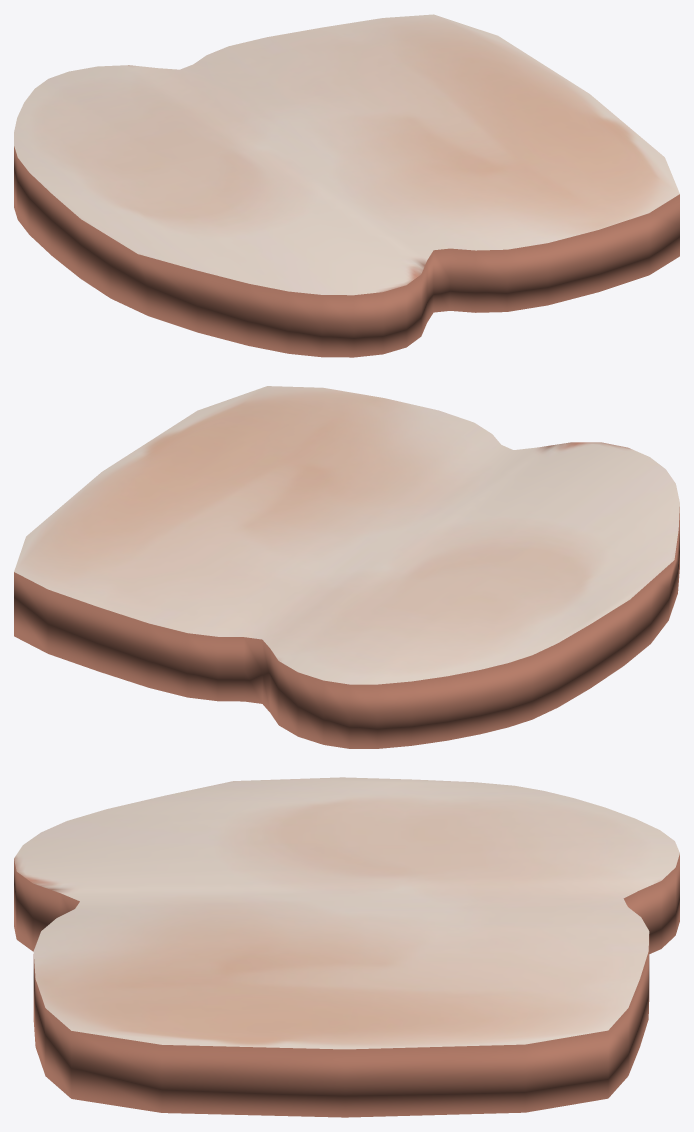
File: bread.glb
3 renders of one model, top to bottom at view 1: azimuth 30°, elevation 25°; view 2: azimuth 150°, elevation 25°; view 3: azimuth 270°, elevation 25°, orthographic. The views are drawn at different scales.
Parts seen in each view (by area): view 1: Cube; view 2: Cube; view 3: Cube.
Boxes of the visible parts, left/top/right/bottom form: Cube: left=14, top=14, right=679, bottom=357; Cube: left=14, top=386, right=679, bottom=748; Cube: left=14, top=777, right=679, bottom=1117.
Size of the model in its own units: 17.13 by 2 by 17.72.
Materials: 1 (1 with a texture image).
